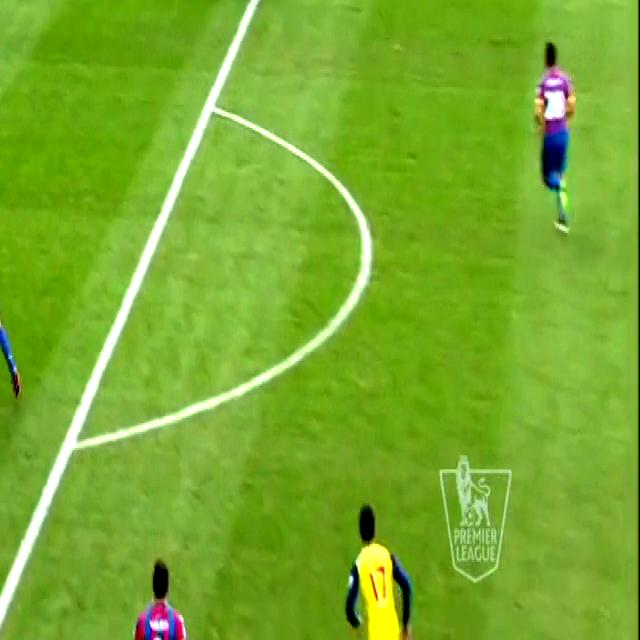soccer-player: (511, 38, 590, 252), (330, 507, 424, 640), (115, 565, 201, 640), (0, 162, 23, 404)
